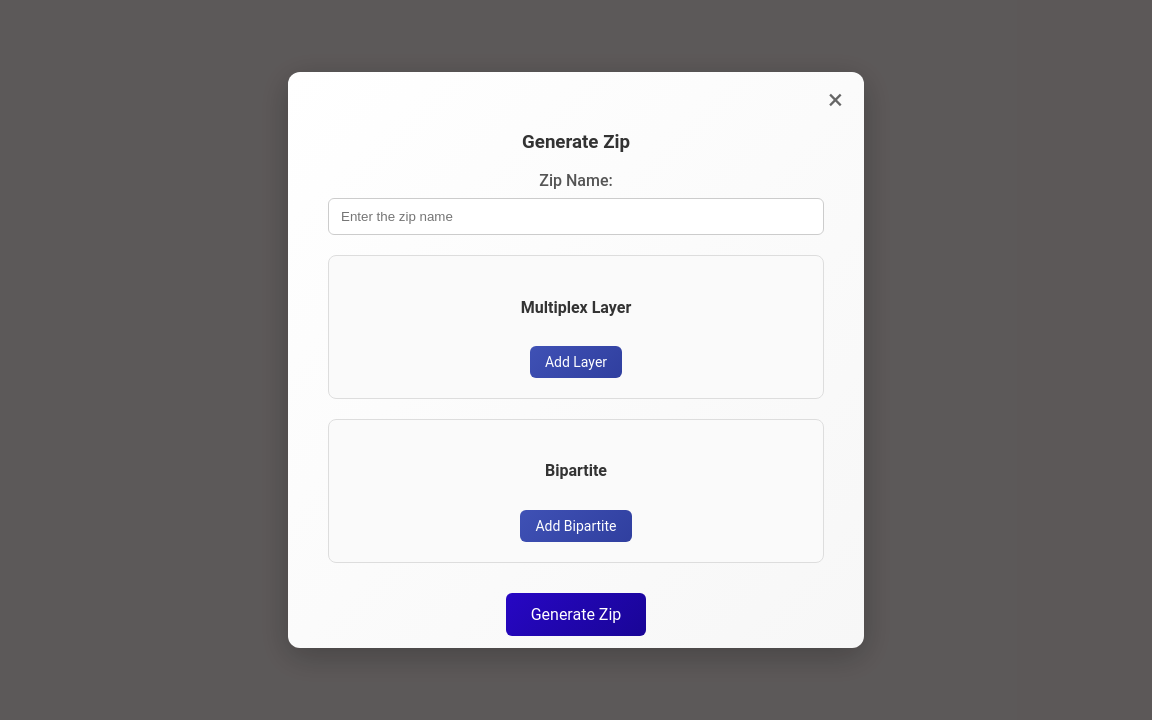
Test: GenerateZipForm — interactions › soumettre sans layer affiche une erreur
Note: Remplir le zip name
Type "my_multiplex" into the field with placeholder "Enter the zip name" at (576, 217), box [328,198,824,235]
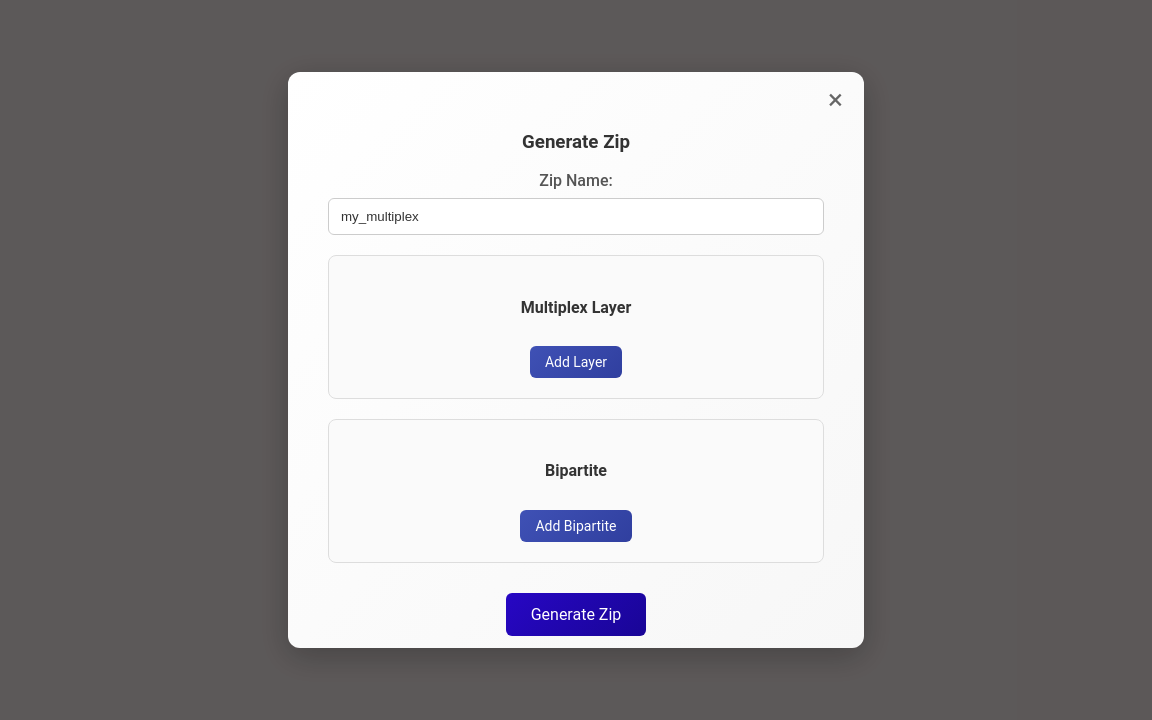
Click the button "Generate Zip" at (576, 614), box [506,592,646,636]
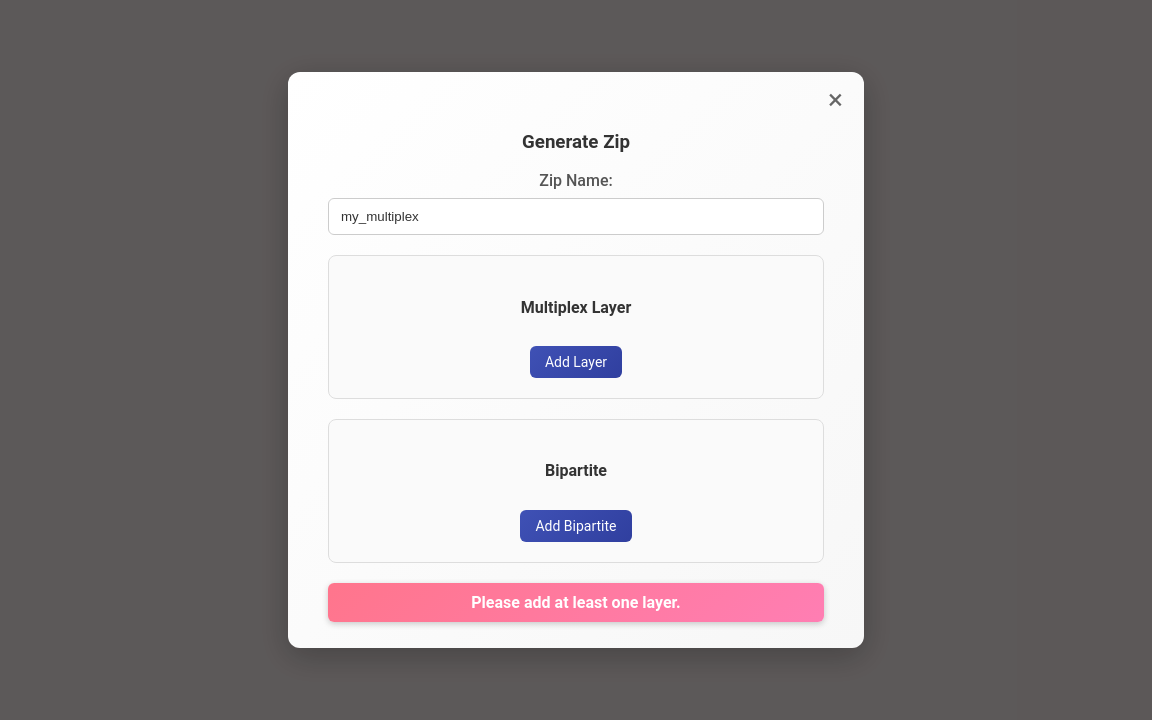
Now the text "Please add at least one layer." is shown, box [328,582,824,622]
